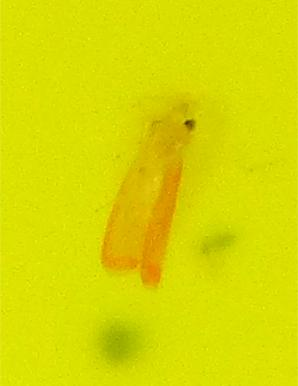Hemiptera: (100, 100, 198, 286)
